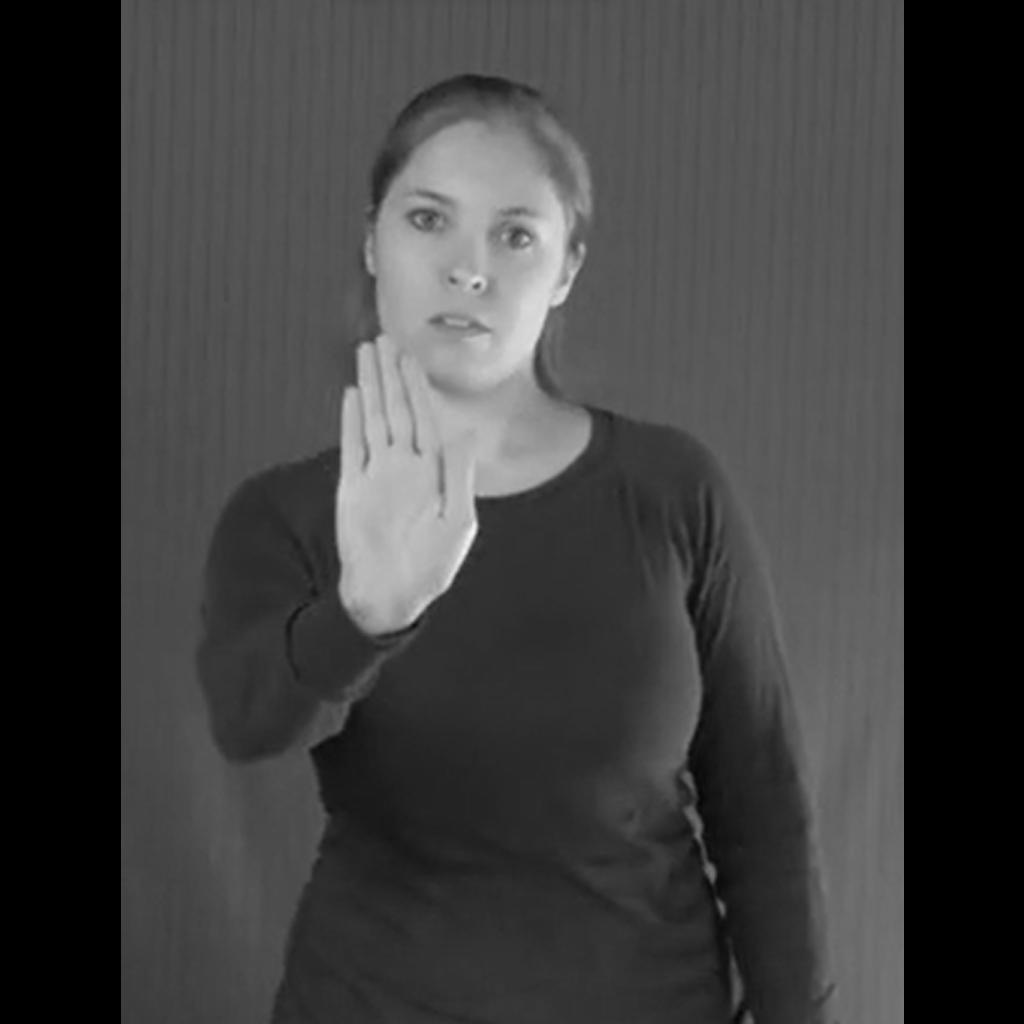your: (336, 336, 478, 594)
